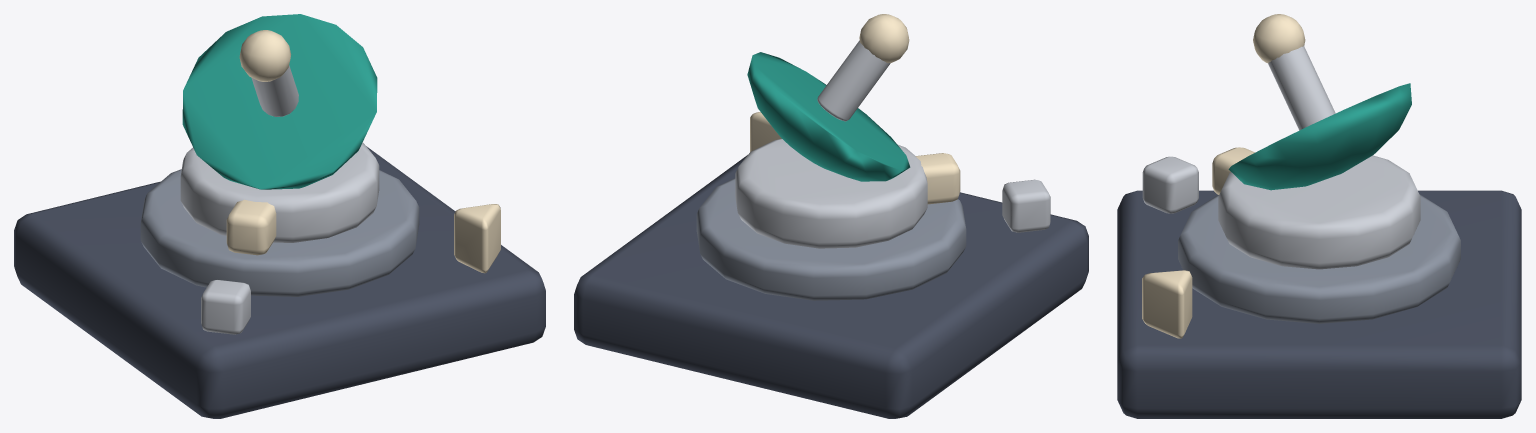
File: Ctrl_Instr_Radar.fbx
3 views of the same model, side by side, from view 1: azimuth 30°, elevation 25°; view 2: azimuth 150°, elevation 25°; view 3: azimuth 270°, elevation 25° (orthographic). The views are drawn at different scales.
Parts seen in each view (by area): view 1: Ctrl_Instr_Radar.Base, Ctrl_Instr_Radar.Move_Knob, Ctrl_Instr_Radar.Dial, Ctrl_Instr_Radar.Marks; view 2: Ctrl_Instr_Radar.Base, Ctrl_Instr_Radar.Move_Knob, Ctrl_Instr_Radar.Dial, Ctrl_Instr_Radar.Marks; view 3: Ctrl_Instr_Radar.Base, Ctrl_Instr_Radar.Move_Knob, Ctrl_Instr_Radar.Dial, Ctrl_Instr_Radar.Marks.
Boxes of the visible parts, x1,y1,x2,y2 form: Ctrl_Instr_Radar.Base: (14, 146, 545, 418); Ctrl_Instr_Radar.Move_Knob: (180, 14, 379, 255); Ctrl_Instr_Radar.Dial: (140, 169, 419, 296); Ctrl_Instr_Radar.Marks: (201, 204, 500, 334); Ctrl_Instr_Radar.Base: (574, 155, 1088, 418); Ctrl_Instr_Radar.Move_Knob: (735, 14, 960, 248); Ctrl_Instr_Radar.Dial: (696, 178, 966, 300); Ctrl_Instr_Radar.Marks: (750, 112, 1050, 232); Ctrl_Instr_Radar.Base: (1117, 190, 1521, 418); Ctrl_Instr_Radar.Move_Knob: (1212, 14, 1420, 269); Ctrl_Instr_Radar.Dial: (1178, 194, 1460, 323); Ctrl_Instr_Radar.Marks: (1142, 156, 1198, 338).
Bounding box in the file's own units: 0.2 × 0.1681 × 0.2.
Materials: 1 (1 with a texture image).
